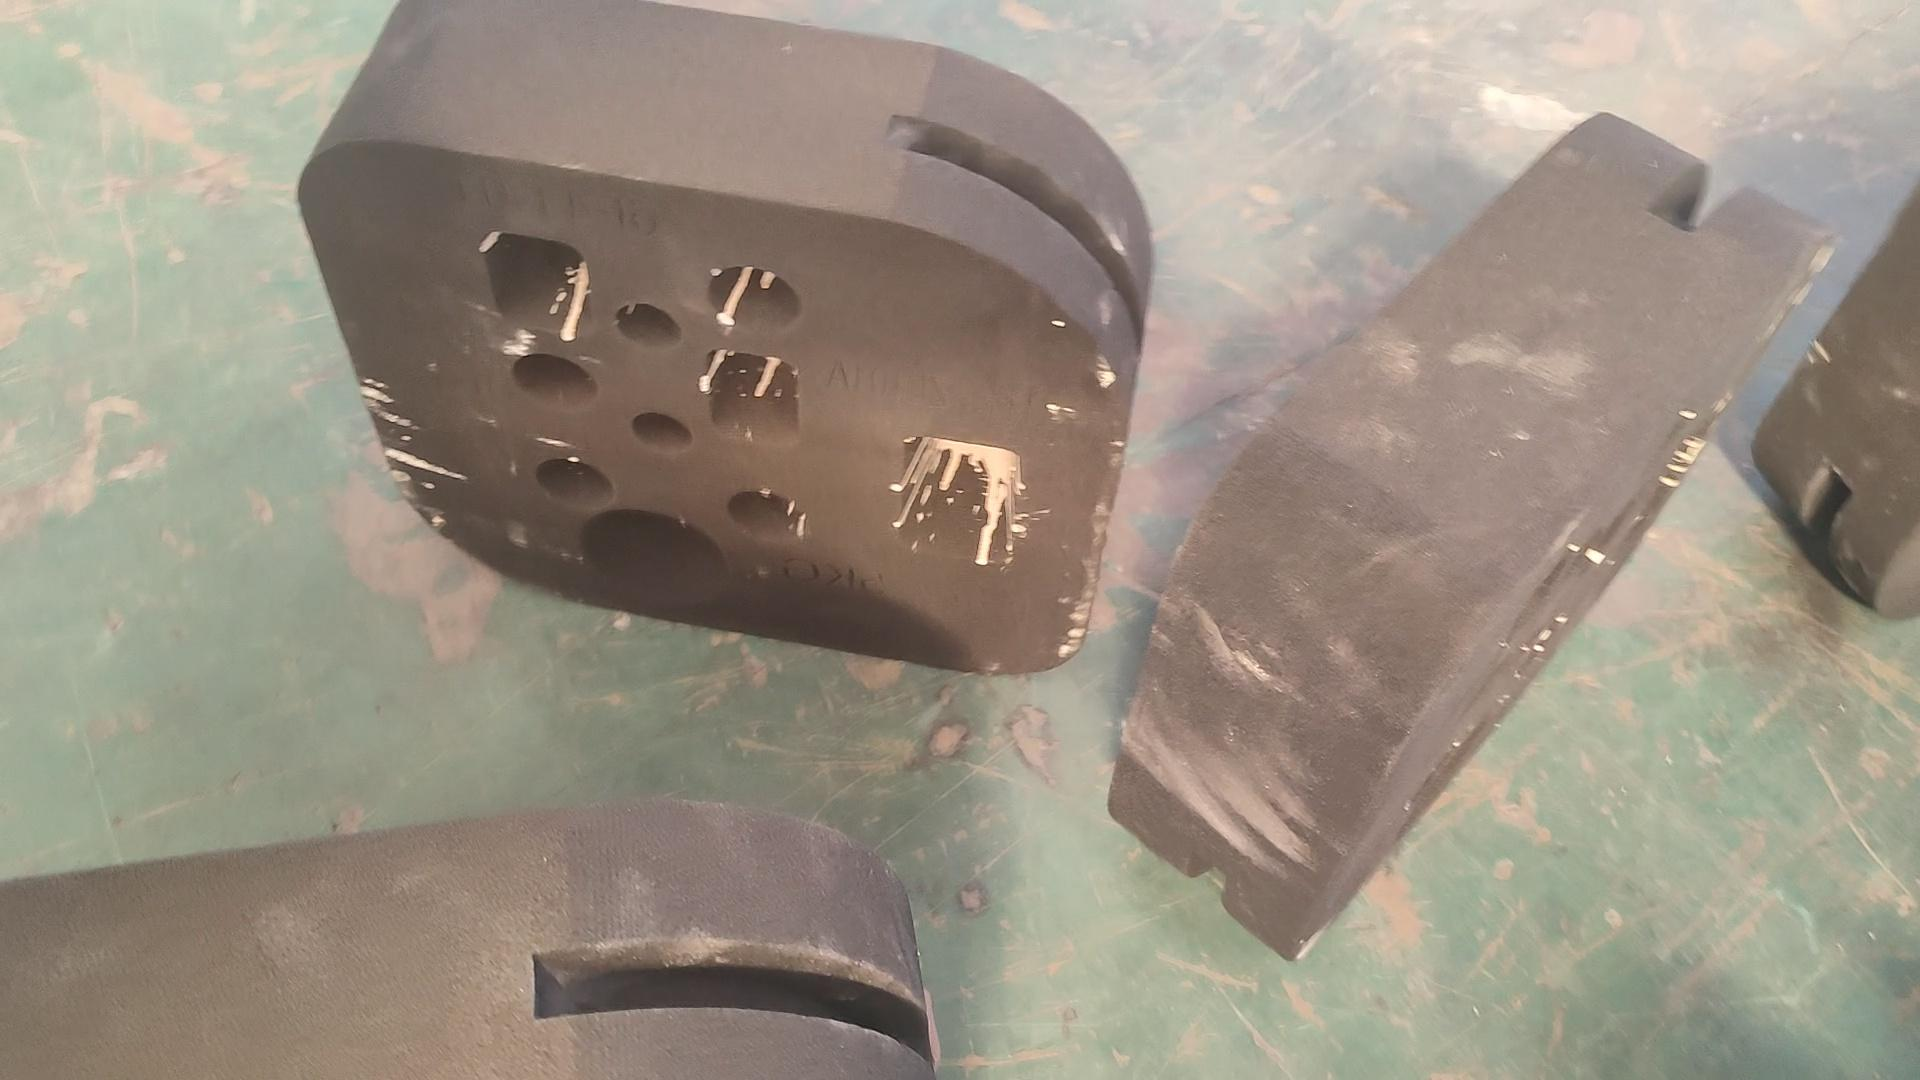pouring hole: (580, 510, 727, 607)
